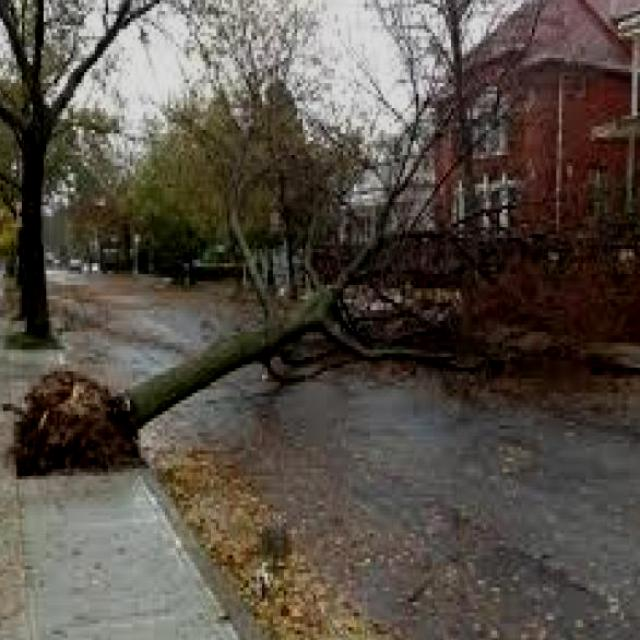fallen_object: (3, 154, 516, 494)
